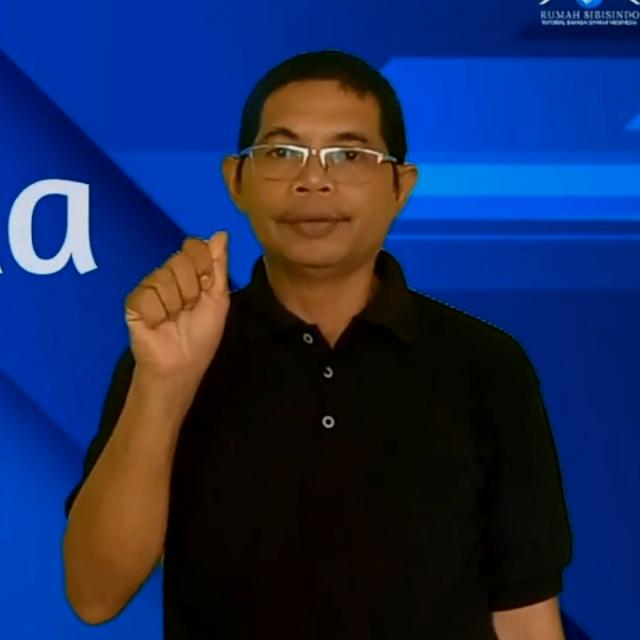A: (122, 230, 242, 396)
